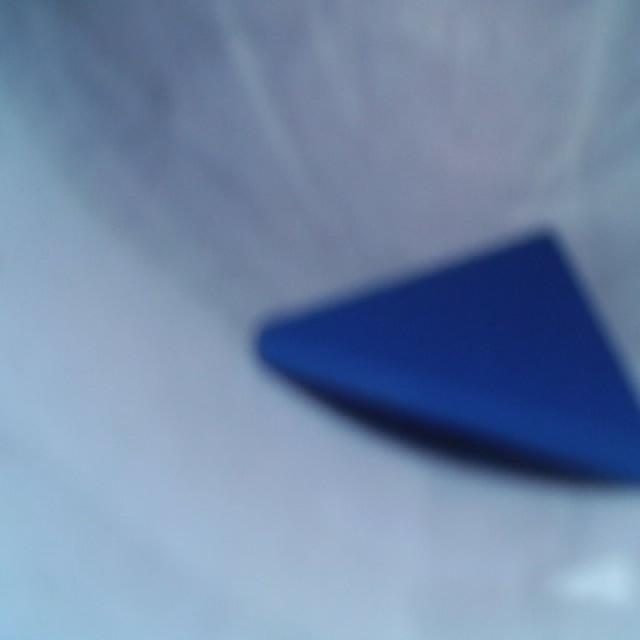triangle: (258, 235, 639, 481)
